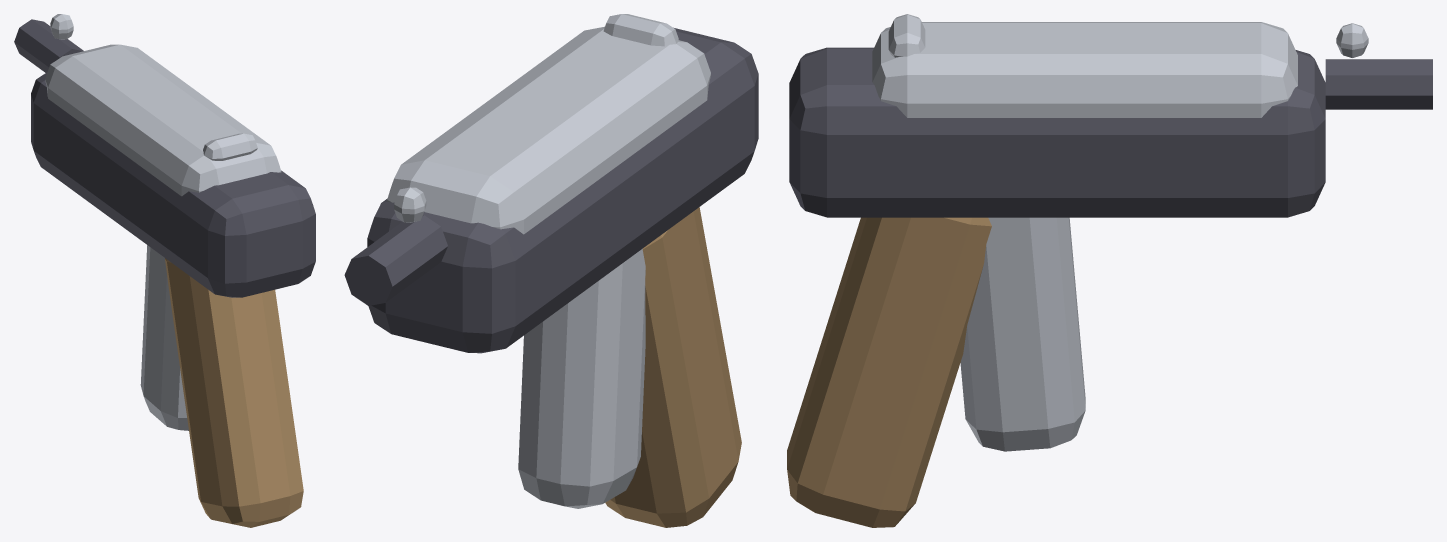
The model's file is precision.glb.
The picture shows the model from 3 angles, left to right: view 1: azimuth 30°, elevation 25°; view 2: azimuth 150°, elevation 25°; view 3: azimuth 270°, elevation 25°; orthographic projection. The views are drawn at different scales.
Visible parts, largest first — view 1: body, grip, slide, magazine, barrel, sight_rear, sight_front; view 2: body, slide, magazine, grip, barrel, sight_rear, sight_front; view 3: body, grip, slide, magazine, barrel, sight_rear, sight_front.
Part boxes in pixels (x1,y1,x2,y2): body: (31,72,315,297); grip: (165,258,303,527); slide: (45,44,281,196); magazine: (140,245,188,430); barrel: (14,19,83,72); sight_rear: (203,133,257,160); sight_front: (50,14,73,39); body: (367,27,758,353); slide: (387,26,710,234); magazine: (518,248,645,508); grip: (605,207,741,527); barrel: (344,215,447,305); sight_rear: (603,14,678,46); sight_front: (394,187,426,222); body: (789,47,1325,217); grip: (787,217,991,527); slide: (872,22,1297,117); magazine: (960,217,1085,451); barrel: (1325,59,1432,109); sight_rear: (888,14,925,57); sight_front: (1336,23,1368,57).
Size of the model in its own units: 0.06 by 0.2029 by 0.2409.
